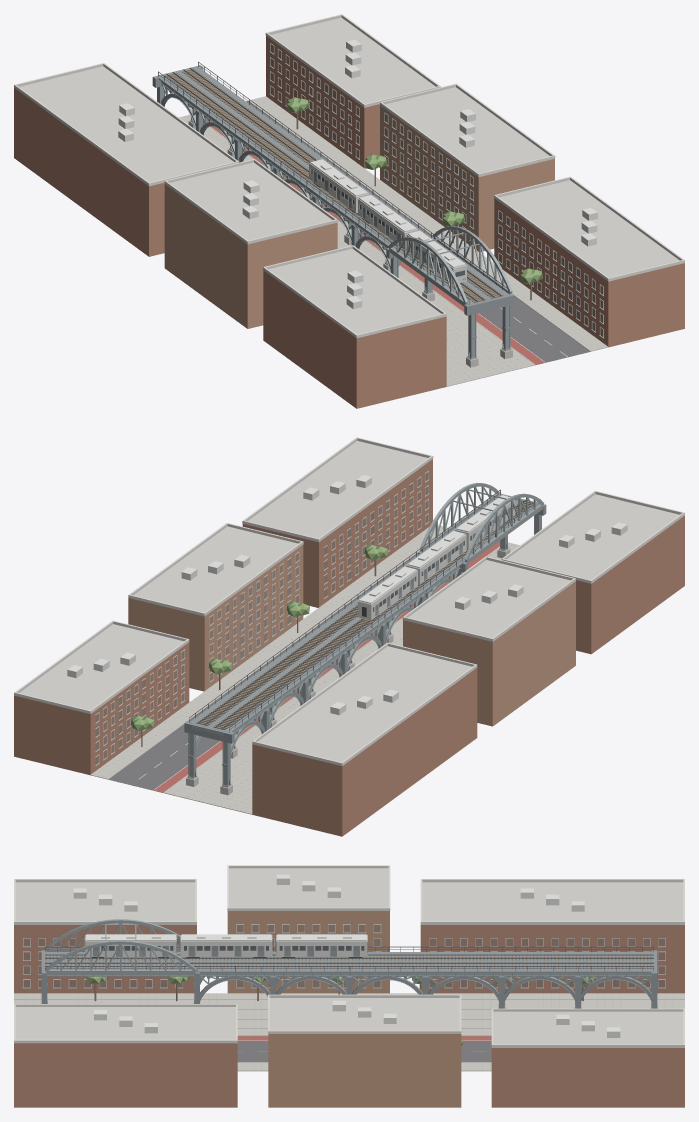
Rendered from clay-rail-through-truss-clay-v002.glb.
3 renders of one model, top to bottom at view 1: azimuth 30°, elevation 25°; view 2: azimuth 150°, elevation 25°; view 3: azimuth 270°, elevation 25°, orthographic. The views are drawn at different scales.
Parts seen in each view (by area): view 1: CLAY_ROOF, CLAY_BRICK, CLAY_BRICK2, CLAY_TRIM, CLAY_PAVING, CLAY_PLATE, CLAY_STEEL, CLAY_PALE, CLAY_GLASS, CLAY_TIMBER, CLAY_ASPHALT, CLAY_HARDWARE (+4 smaller); view 2: CLAY_ROOF, CLAY_BRICK, CLAY_BRICK2, CLAY_TRIM, CLAY_PAVING, CLAY_PLATE, CLAY_STEEL, CLAY_PALE, CLAY_GLASS, CLAY_TIMBER, CLAY_ASPHALT, CLAY_HARDWARE (+4 smaller); view 3: CLAY_BRICK, CLAY_ROOF, CLAY_BRICK2, CLAY_PLATE, CLAY_TRIM, CLAY_PAVING, CLAY_STEEL, CLAY_HARDWARE, CLAY_PALE, CLAY_GLASS, CLAY_TIMBER, CLAY_SILVER (+5 smaller).
Boxes of the visible parts, x1=… form: CLAY_ROOF: x1=19, y1=17, x2=679, y2=334; CLAY_BRICK: x1=14, y1=36, x2=684, y2=408; CLAY_BRICK2: x1=164, y1=105, x2=554, y2=328; CLAY_TRIM: x1=14, y1=14, x2=684, y2=338; CLAY_PAVING: x1=179, y1=96, x2=608, y2=386; CLAY_PLATE: x1=152, y1=65, x2=514, y2=358; CLAY_STEEL: x1=160, y1=81, x2=512, y2=357; CLAY_PALE: x1=118, y1=39, x2=597, y2=309; CLAY_GLASS: x1=270, y1=44, x2=603, y2=336; CLAY_TIMBER: x1=165, y1=69, x2=531, y2=302; CLAY_ASPHALT: x1=246, y1=101, x2=590, y2=362; CLAY_HARDWARE: x1=158, y1=61, x2=509, y2=304; CLAY_ROOF: x1=19, y1=441, x2=679, y2=762; CLAY_BRICK: x1=14, y1=459, x2=684, y2=836; CLAY_BRICK2: x1=128, y1=545, x2=575, y2=726; CLAY_TRIM: x1=14, y1=437, x2=684, y2=765; CLAY_PAVING: x1=91, y1=525, x2=519, y2=814; CLAY_PLATE: x1=184, y1=493, x2=546, y2=786; CLAY_STEEL: x1=189, y1=483, x2=543, y2=785; CLAY_PALE: x1=67, y1=475, x2=627, y2=715; CLAY_GLASS: x1=96, y1=472, x2=513, y2=764; CLAY_TIMBER: x1=141, y1=499, x2=533, y2=746; CLAY_ASPHALT: x1=109, y1=553, x2=417, y2=790; CLAY_HARDWARE: x1=189, y1=489, x2=538, y2=732; CLAY_BRICK: x1=14, y1=925, x2=684, y2=1107; CLAY_ROOF: x1=15, y1=868, x2=683, y2=1044; CLAY_BRICK2: x1=227, y1=911, x2=461, y2=1107; CLAY_PLATE: x1=41, y1=946, x2=657, y2=1008; CLAY_TRIM: x1=14, y1=865, x2=684, y2=1047; CLAY_PAVING: x1=14, y1=993, x2=684, y2=1071; CLAY_STEEL: x1=45, y1=919, x2=651, y2=1000; CLAY_HARDWARE: x1=45, y1=946, x2=653, y2=971; CLAY_PALE: x1=73, y1=874, x2=620, y2=1037; CLAY_GLASS: x1=23, y1=924, x2=665, y2=987; CLAY_TIMBER: x1=45, y1=954, x2=651, y2=1001; CLAY_SILVER: x1=85, y1=935, x2=367, y2=956.
Bounding box in the file's own units: 73.04 × 19.85 × 132.
